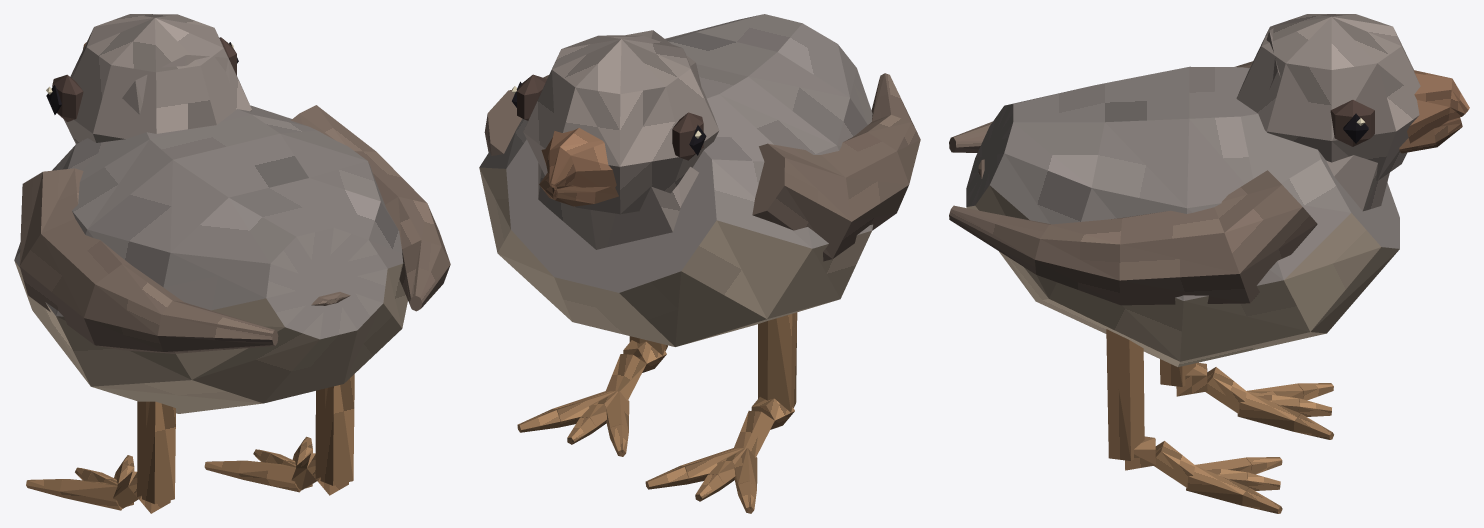
The model's file is mon_robin_chick.glb.
3 views of the same model, side by side, from view 1: azimuth 30°, elevation 25°; view 2: azimuth 150°, elevation 25°; view 3: azimuth 270°, elevation 25° (orthographic).
Visible parts, largest first — view 1: closed_body; view 2: closed_body; view 3: closed_body.
Boxes of the visible parts, box(x1,y1,x2,y2) form: closed_body: box(14, 14, 450, 513); closed_body: box(479, 14, 920, 513); closed_body: box(949, 14, 1469, 513).
Size of the model in its own units: 0.0347 by 0.0402 by 0.0434.
Materials: 1 (1 with a texture image).
